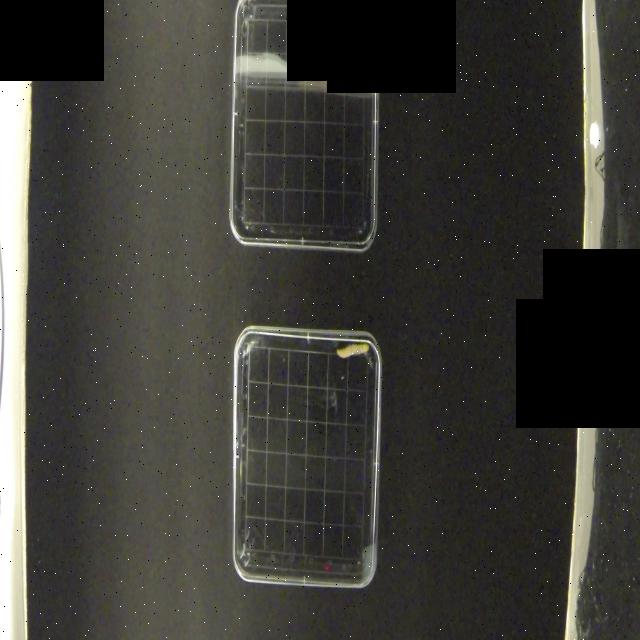larva: (338, 338, 369, 362), (317, 14, 356, 32)
